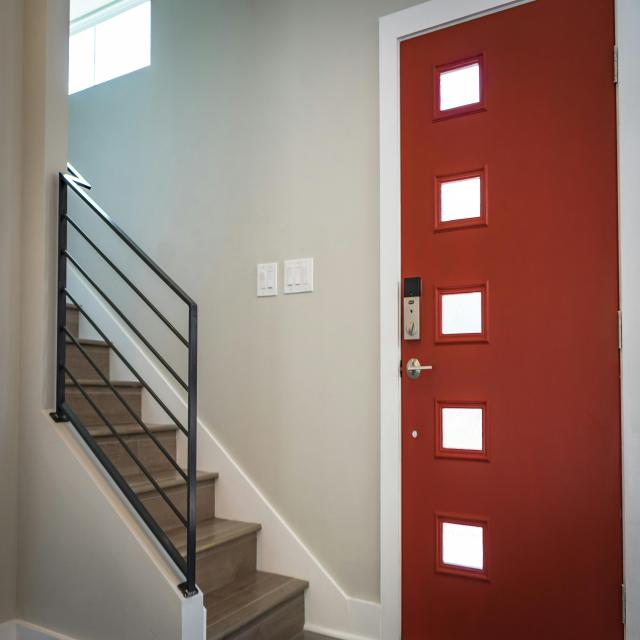door-handle: (406, 359, 432, 379)
